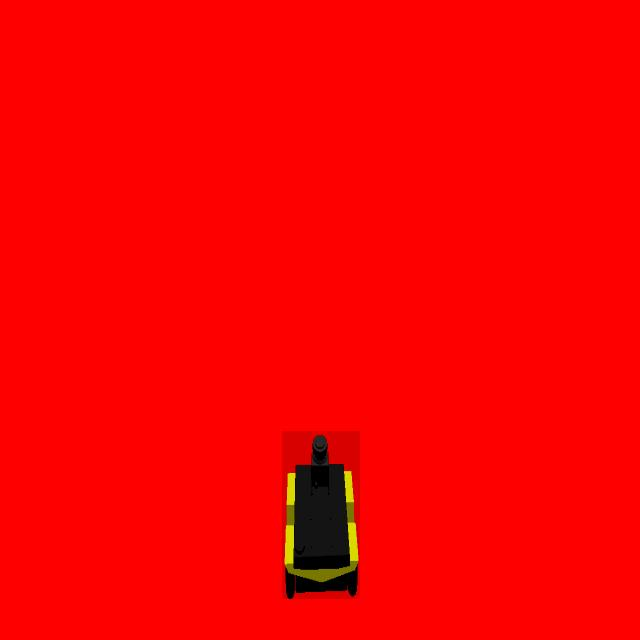jackal: (282, 431, 360, 599)
